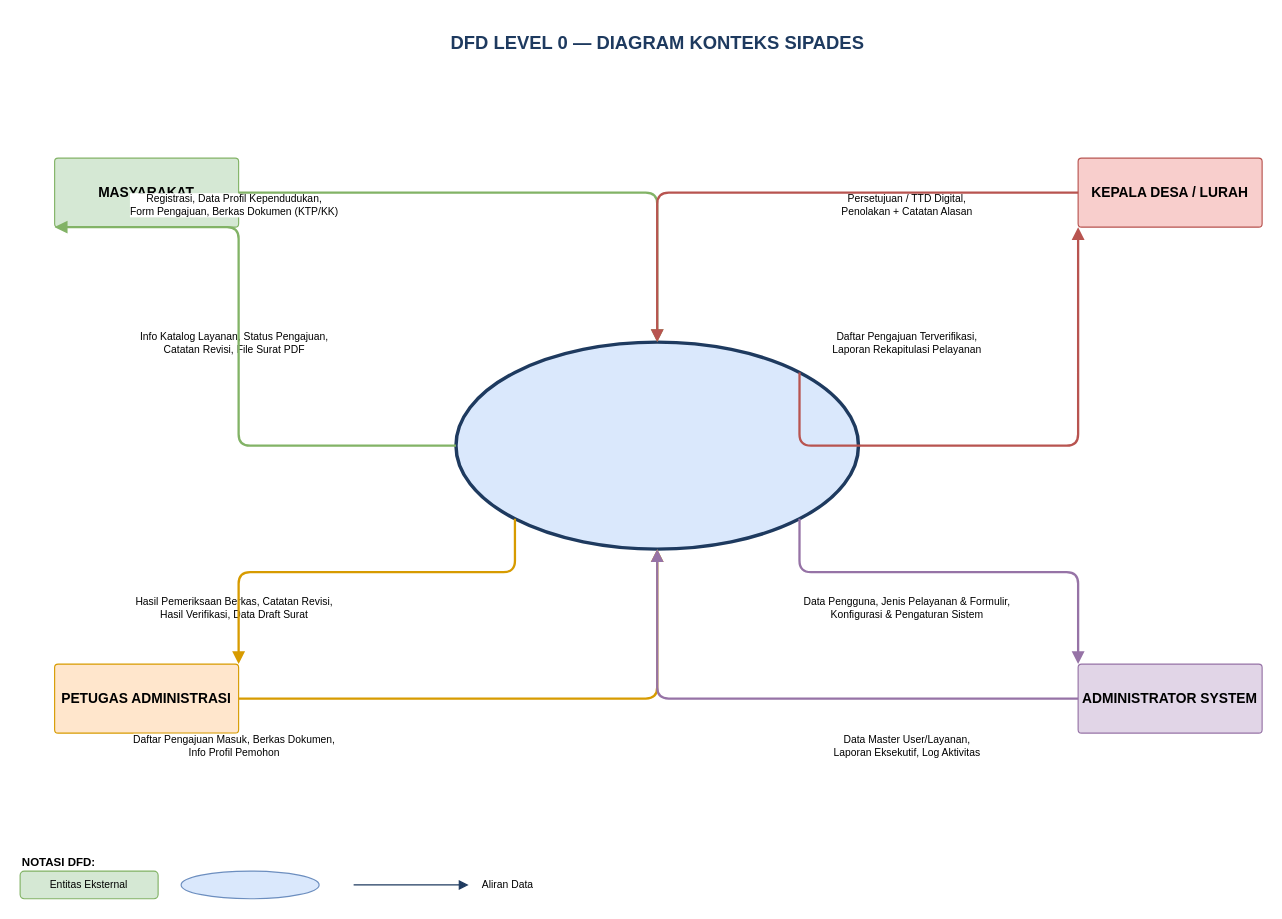
This 1282x919 diagram has some shape labels left out. Here are the shapes that lost their labels. From the top down, the centre of each, then its label:
the point at 657,445: SISTEM INFORMASI PELAYANAN ADMINISTRASI DESA / KELURAHAN ( SIPADES )
the point at 249,884: Proses Sistem
